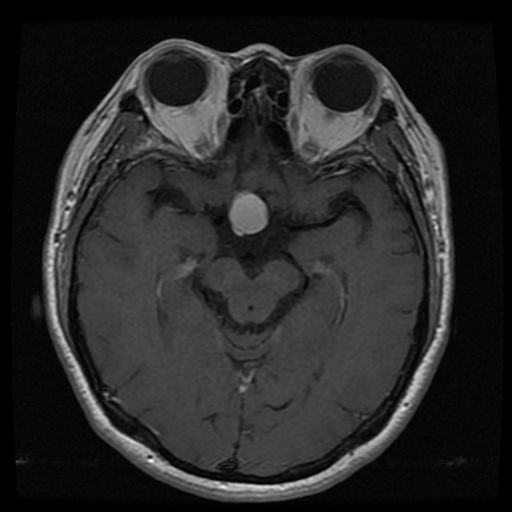pituitary: (229, 194, 270, 234)
